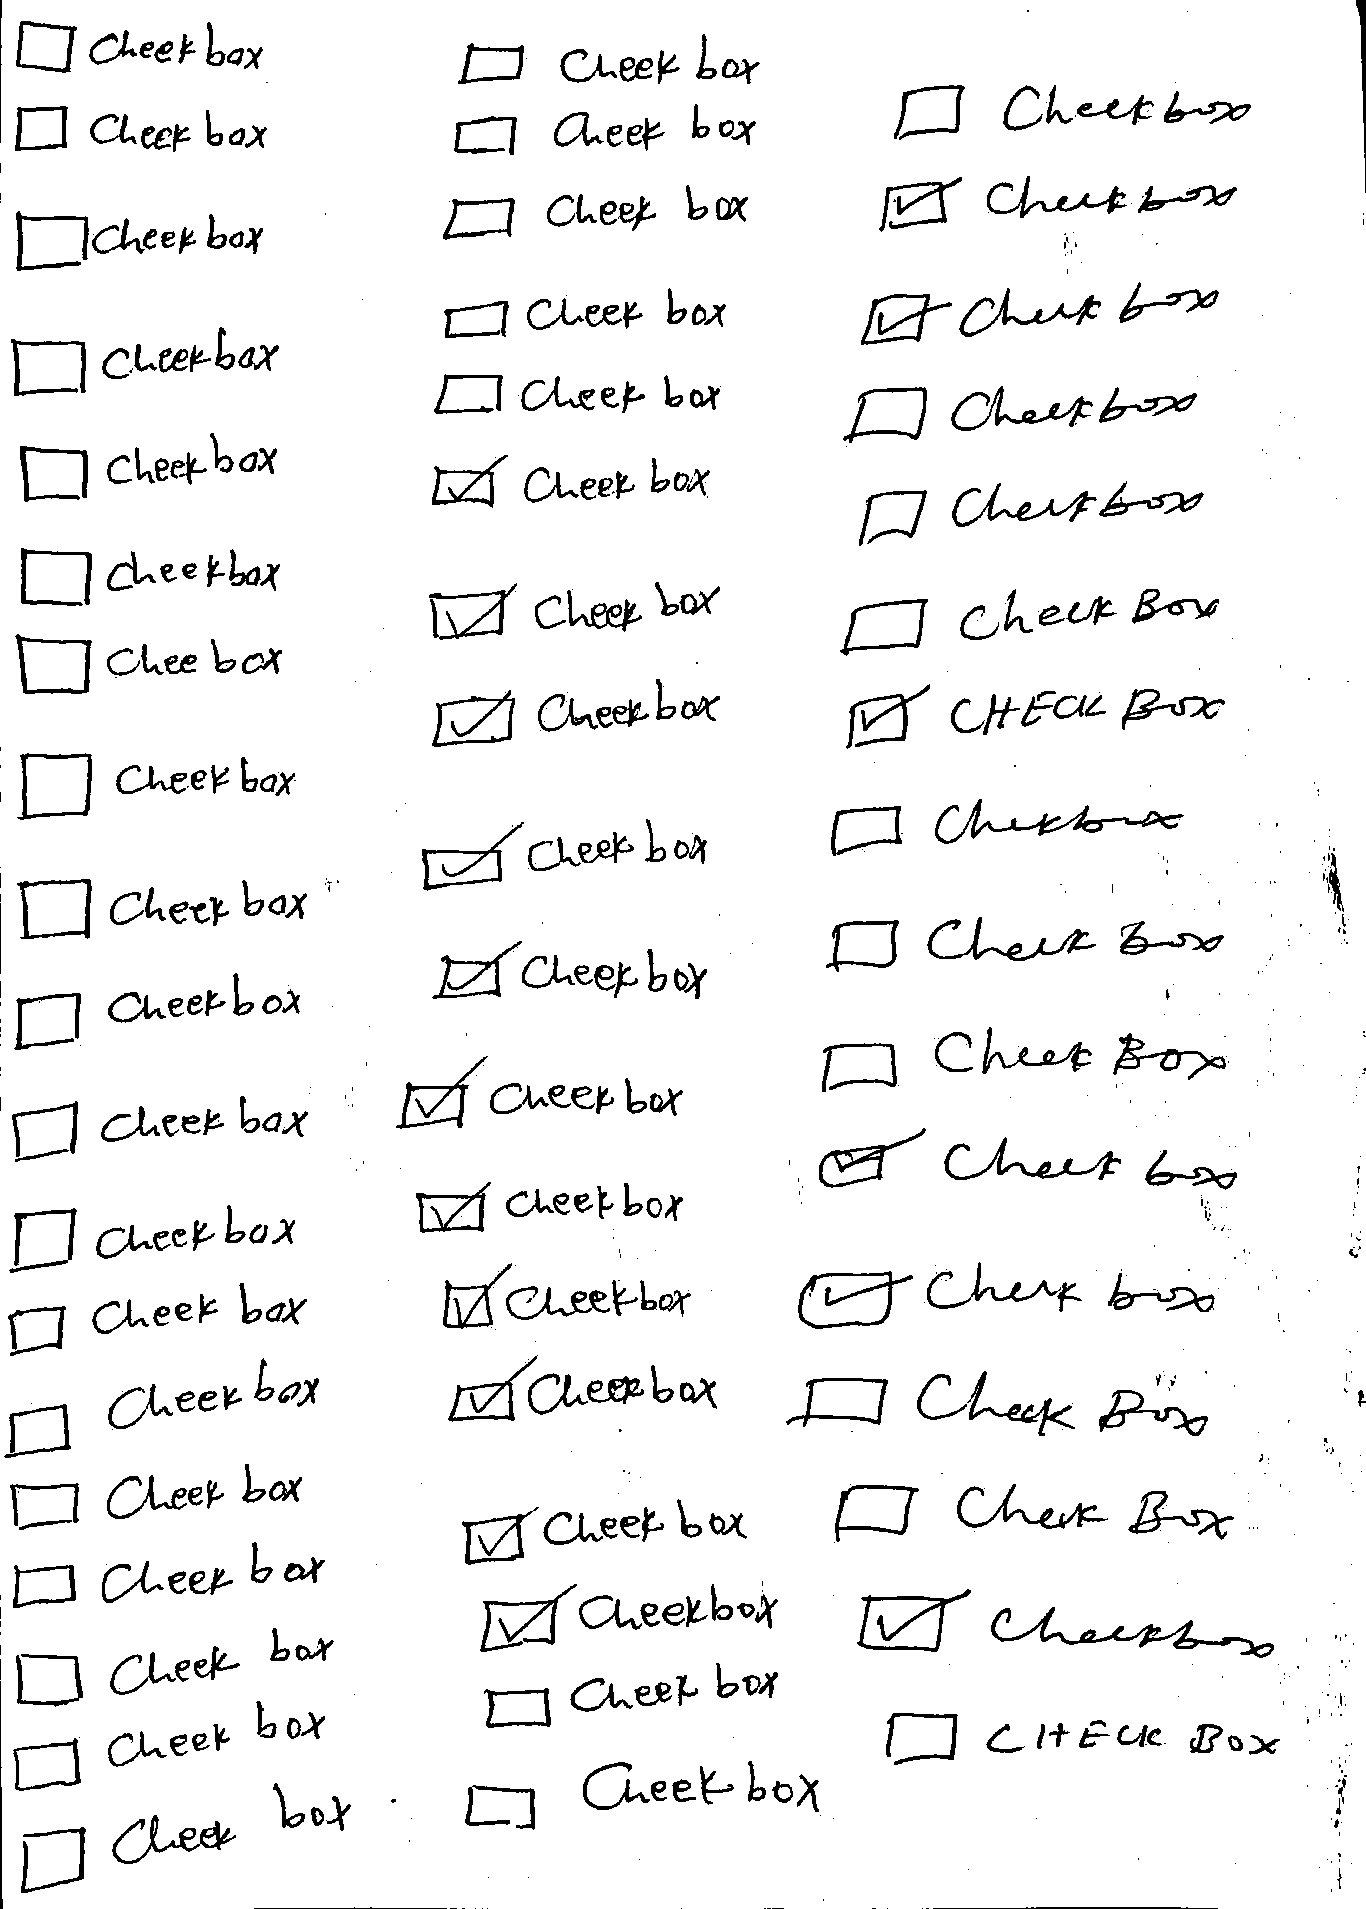Check Box: (15, 1786, 359, 1902), (809, 1127, 1251, 1204), (9, 1695, 336, 1795), (455, 1751, 823, 1840), (795, 1365, 1203, 1445), (792, 1261, 1233, 1335), (856, 1587, 1274, 1662), (880, 1703, 1286, 1777), (6, 1368, 339, 1457), (818, 1025, 1233, 1096), (846, 580, 1224, 657), (832, 1471, 1236, 1542), (9, 1624, 336, 1709), (820, 915, 1224, 980), (852, 279, 1215, 350), (840, 374, 1203, 445), (840, 686, 1230, 751), (15, 745, 306, 830), (472, 1662, 784, 1739), (874, 169, 1239, 234), (856, 481, 1206, 543), (823, 798, 1180, 859), (480, 1587, 786, 1656), (9, 980, 306, 1051), (6, 1099, 309, 1168), (891, 77, 1245, 136), (12, 874, 318, 942), (12, 630, 293, 704), (442, 1359, 721, 1433), (436, 1264, 710, 1340), (6, 330, 282, 404), (6, 1204, 306, 1272), (451, 30, 761, 95), (12, 540, 285, 612), (418, 830, 716, 895), (427, 580, 721, 645), (427, 686, 718, 751), (455, 1504, 758, 1564), (12, 204, 265, 277), (9, 12, 265, 83), (427, 448, 713, 512), (410, 1183, 701, 1245), (392, 1068, 683, 1130), (9, 95, 271, 163), (12, 436, 271, 504), (427, 945, 724, 1004), (6, 1477, 312, 1533), (6, 1292, 312, 1349), (6, 1554, 333, 1606), (430, 365, 727, 418)
